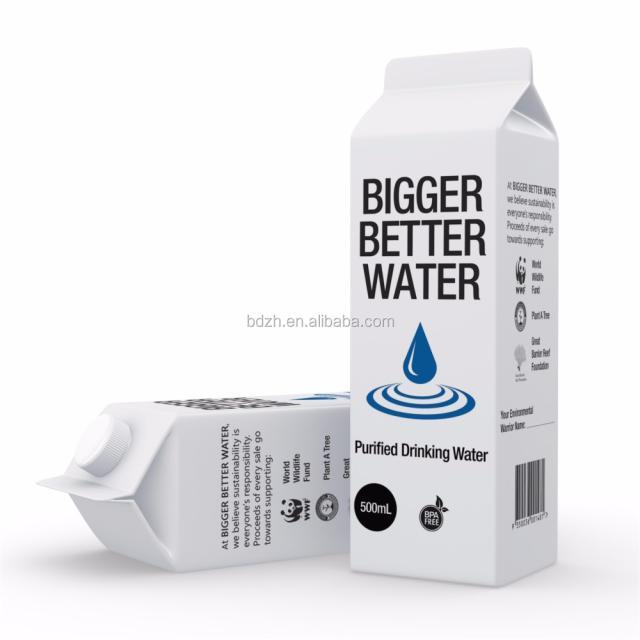Carton: (338, 37, 579, 594), (26, 394, 405, 582)
